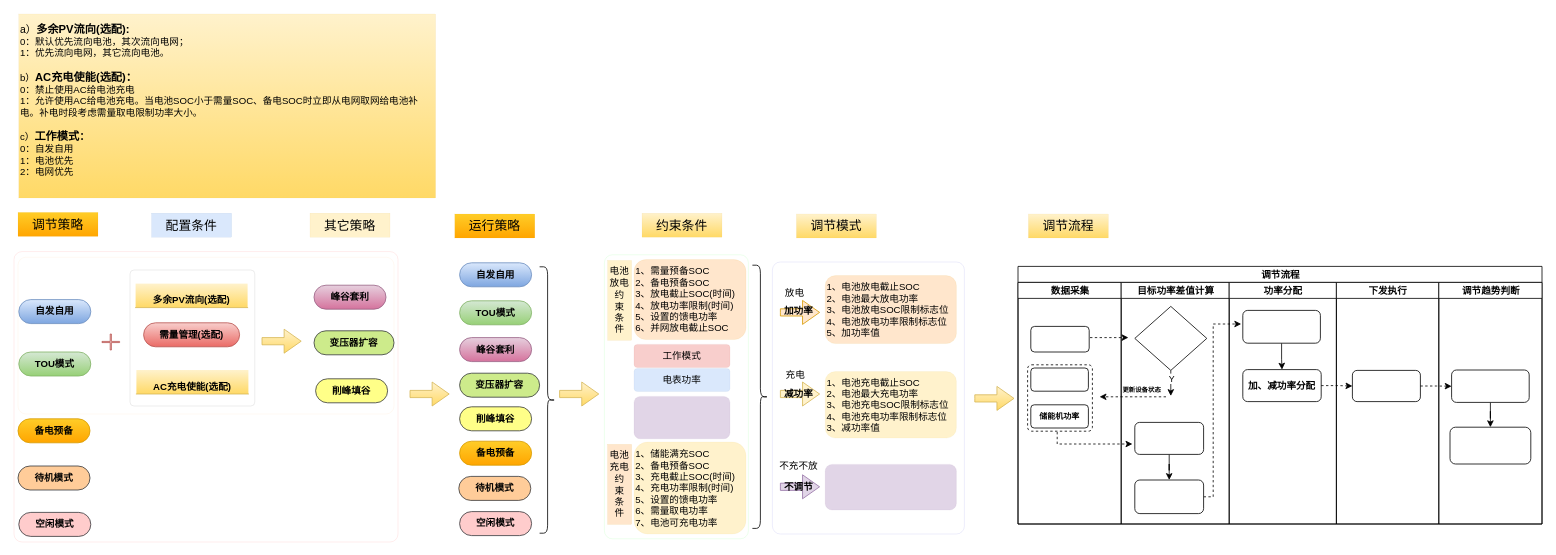
The diagram is 1556 pixels wide and 555 high, and some of its shapes have lost their labels. The centre of each missing label's shape, as x and y in pixels:
"1、设备额定功率 2、 多余PV流向 3、 AC充电使能" goes at (682,417).
"功率趋势，等待超时则重新调节" goes at (1490,445).
"参数下发" goes at (1386,386).
"电表功率 周期更新" goes at (1059,339).
"电表功率!=目标功率" goes at (1170,338).
"电表功率大小及增长方向判断" goes at (1490,385).
"系统处于平衡稳定状态" goes at (890,487).
"计算充、放电调节量、调节方向" goes at (1169,496).
"设备功率、状态统计" goes at (1169,438).
"设备调节 优先级排序" goes at (1281,326).
"逆变器功率" goes at (1059,379).
